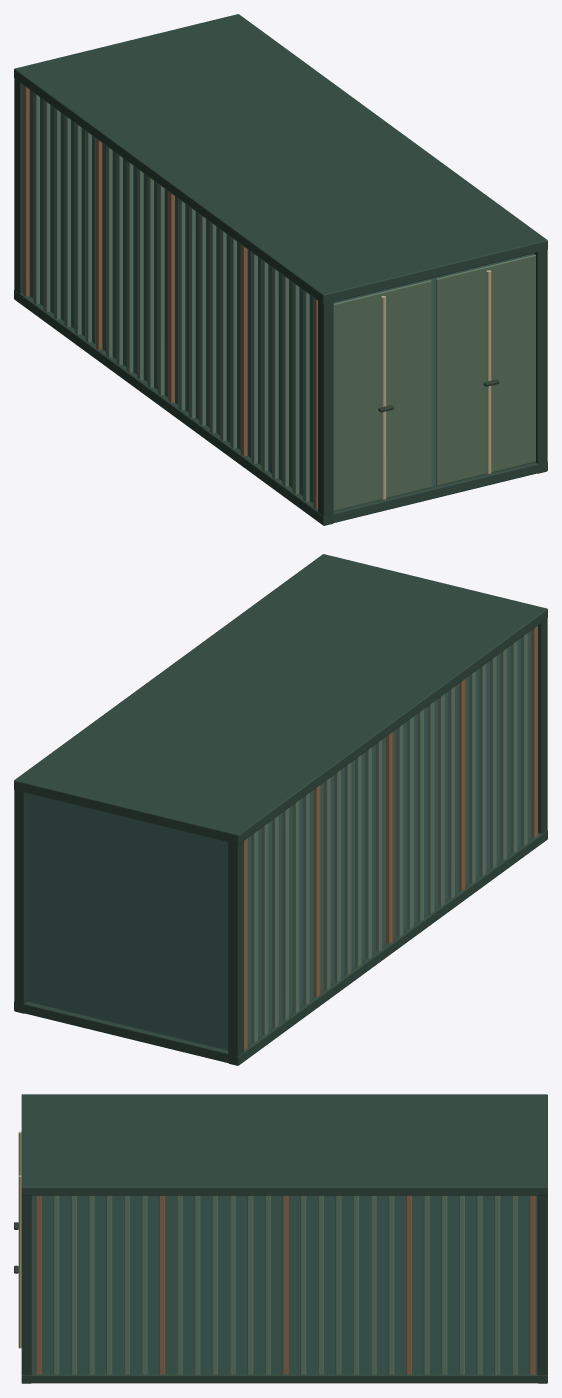
File: SM_HarborContainer_01.glb
3 renders of one model, top to bottom at view 1: azimuth 30°, elevation 25°; view 2: azimuth 150°, elevation 25°; view 3: azimuth 270°, elevation 25°, orthographic. The views are drawn at different scales.
Visible parts, largest first — view 1: SM_HarborContainer_01; view 2: SM_HarborContainer_01; view 3: SM_HarborContainer_01.
Boxes of the visible parts, <box> form: SM_HarborContainer_01: <box>14,14,547,525</box>; SM_HarborContainer_01: <box>14,554,547,1065</box>; SM_HarborContainer_01: <box>14,1094,547,1383</box>.
Size of the model in its own units: 2.57 by 2.53 by 6.21.
